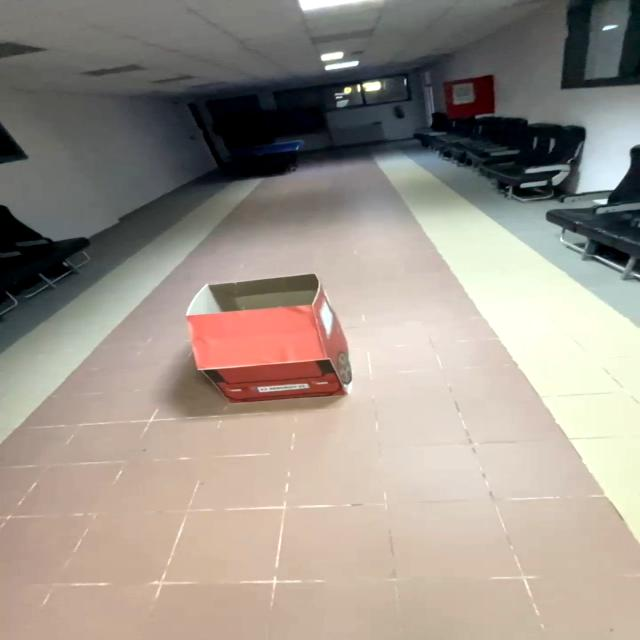red_car: (107, 262, 476, 414)
